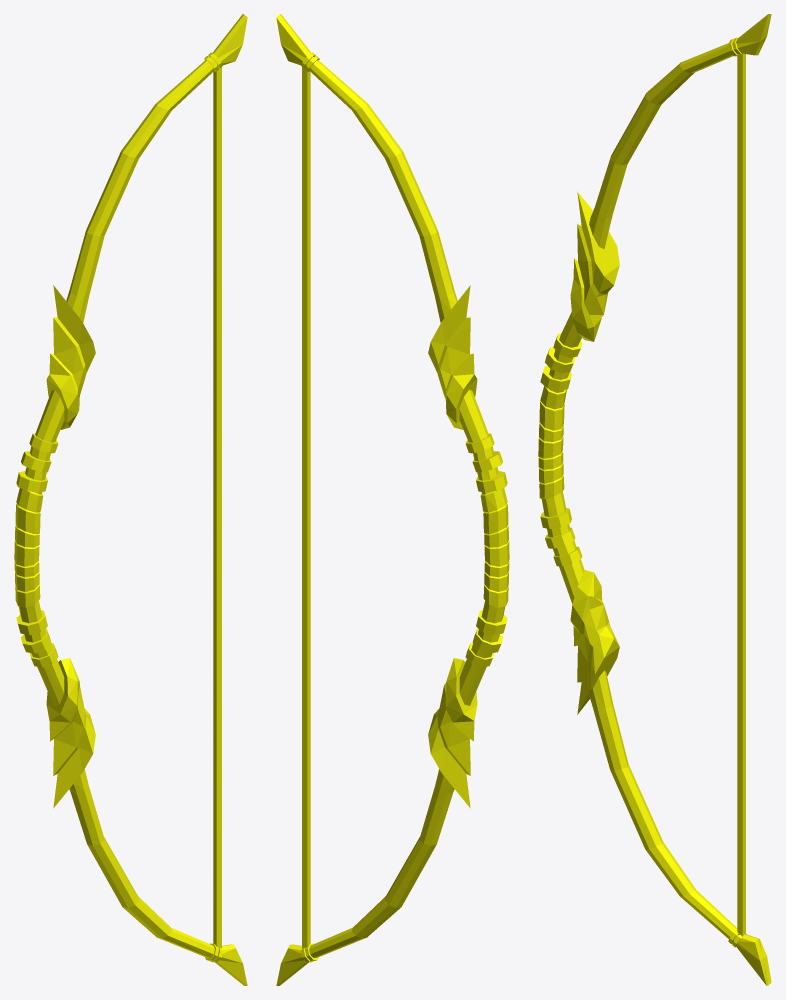
The model's file is _bow_19.glb.
The picture shows the model from 3 angles, left to right: view 1: azimuth 30°, elevation 25°; view 2: azimuth 150°, elevation 25°; view 3: azimuth 330°, elevation 25°; orthographic projection.
Visible parts, largest first — view 1: bow_19; view 2: bow_19; view 3: bow_19.
Part boxes in pixels (box(x1,y1,x2,y2)): bow_19: box(14, 14, 247, 985); bow_19: box(276, 14, 509, 985); bow_19: box(538, 14, 771, 985).
Size of the model in its own units: 0.3049 by 1.24 by 0.0511.
1 material, 1 textured.
